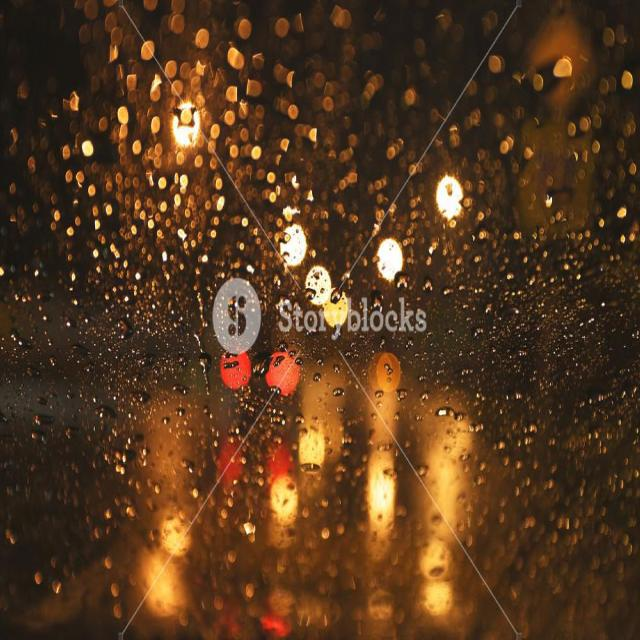other: (263, 203, 359, 339), (122, 42, 215, 159), (367, 226, 408, 290), (431, 171, 470, 220)
